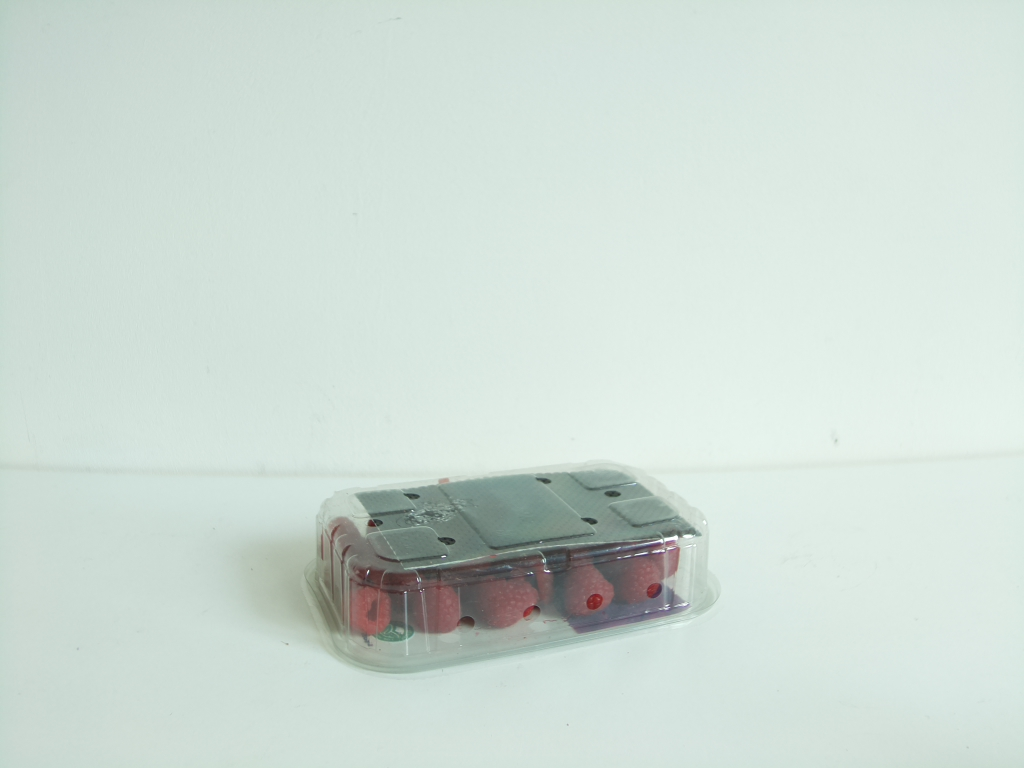soft-fruit: (296, 466, 724, 680)
